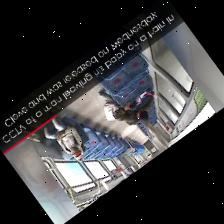person: (99, 90, 154, 123), (44, 117, 81, 159)
